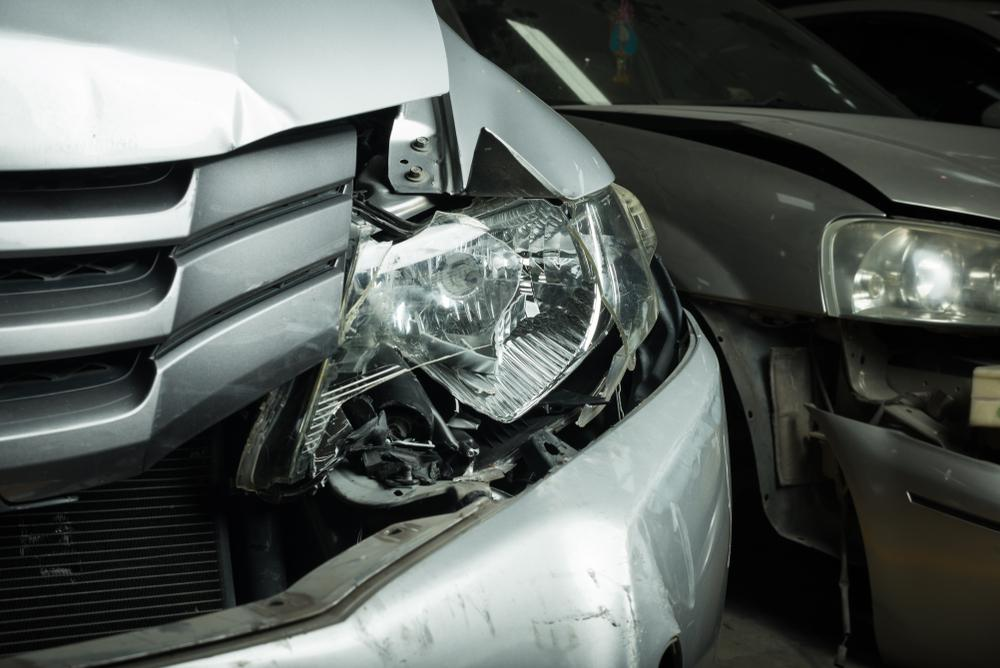dent: (0, 30, 296, 170)
lamp broken: (287, 191, 675, 503)
scratch: (332, 411, 725, 668)
